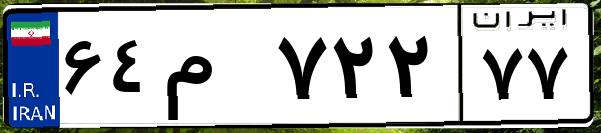2: (385, 28, 445, 110), (330, 28, 385, 110)
4: (110, 28, 158, 98)
6: (57, 26, 110, 100)
7: (270, 28, 330, 110), (475, 38, 525, 113), (525, 38, 570, 115)
م: (158, 20, 270, 120)
